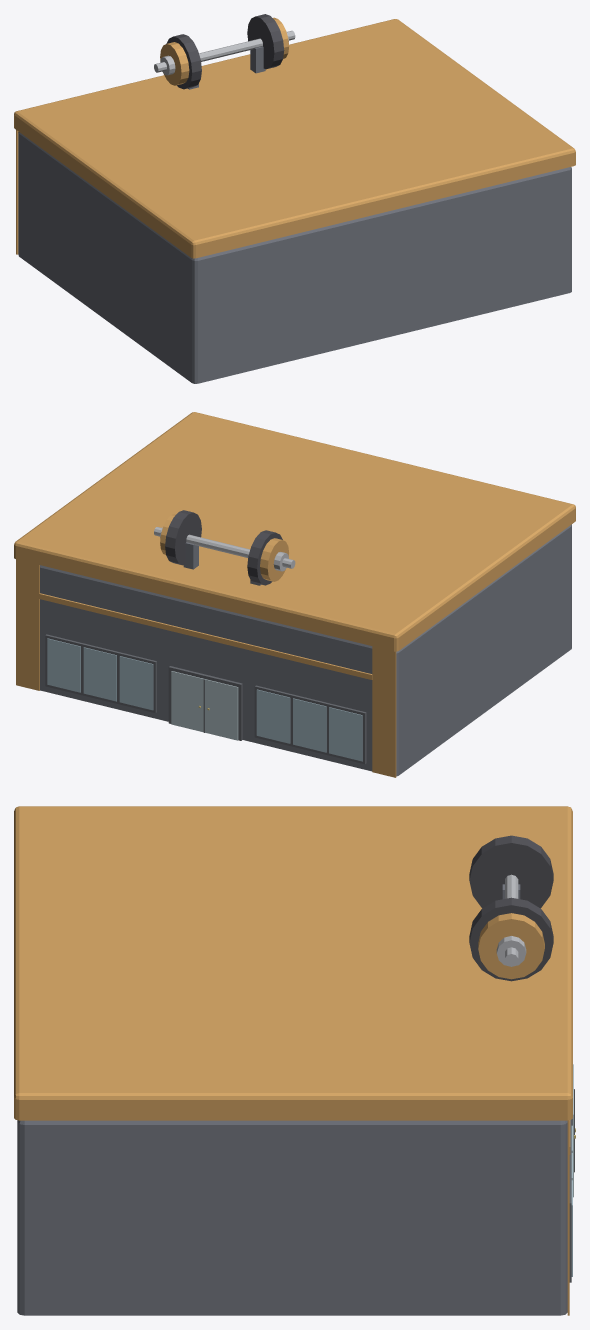
Rendered from centro-academia-5798891f.glb.
The picture shows the model from 3 angles, top to bottom: view 1: azimuth 30°, elevation 25°; view 2: azimuth 150°, elevation 25°; view 3: azimuth 270°, elevation 25°; orthographic projection. The views are drawn at different scales.
Parts seen in each view (by area): view 1: centro_academia_body, centro_academia_glow; view 2: centro_academia_body, centro_academia_glow; view 3: centro_academia_body, centro_academia_glow.
Boxes of the visible parts, <box> form: centro_academia_body: <box>14,19,575,383</box>; centro_academia_glow: <box>154,14,295,89</box>; centro_academia_body: <box>14,412,575,777</box>; centro_academia_glow: <box>154,510,295,585</box>; centro_academia_body: <box>14,806,575,1315</box>; centro_academia_glow: <box>469,835,553,981</box>.
Size of the model in its own units: 19.64 by 9.5 by 16.04.
